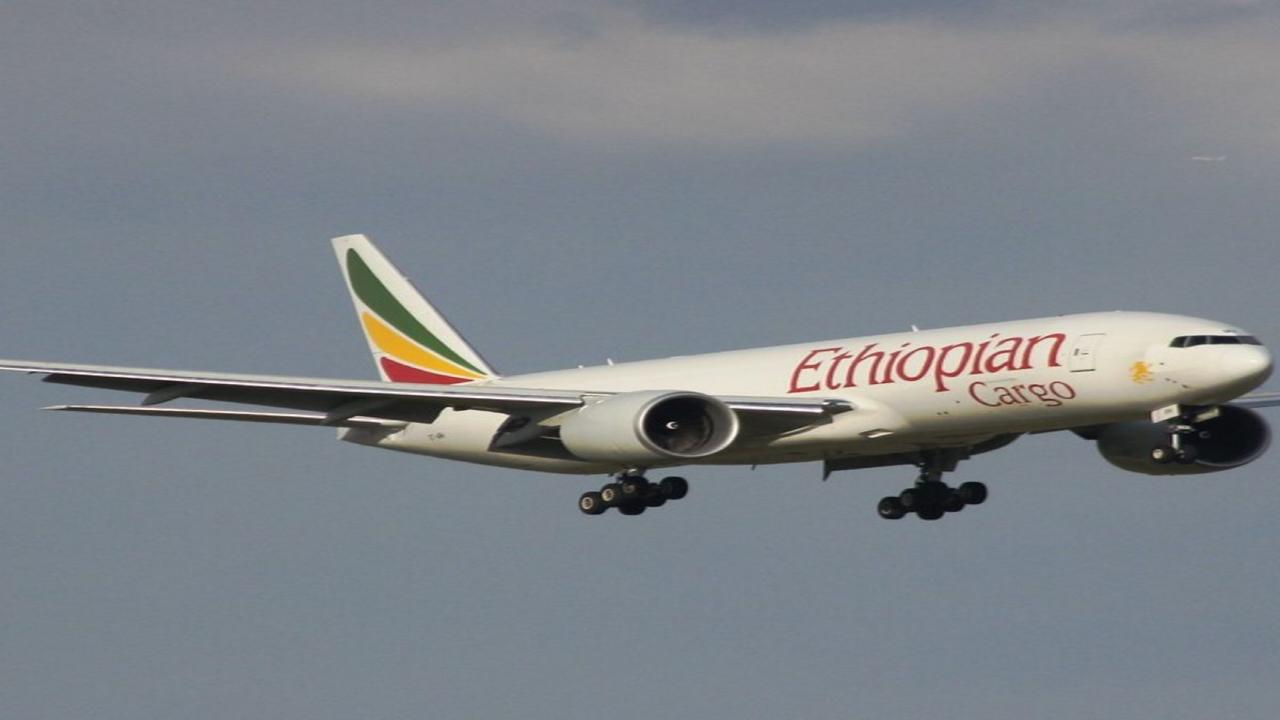Airplane: (0, 223, 1280, 531)
